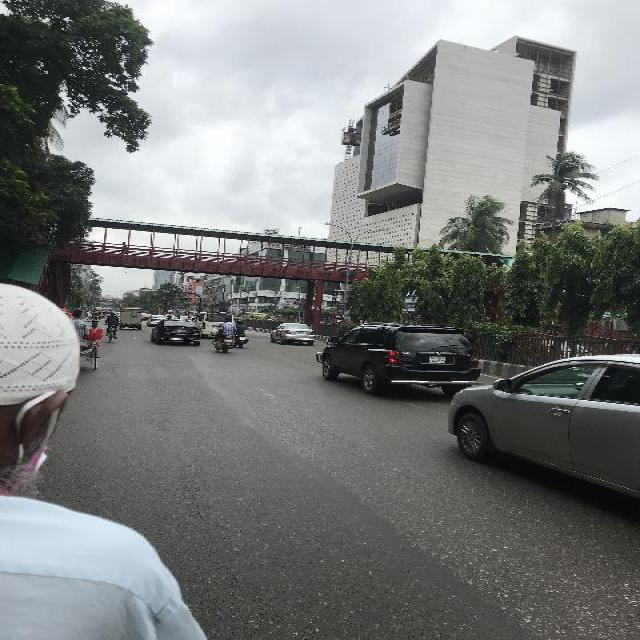bicycle: (102, 312, 119, 342), (90, 312, 98, 330)
bus: (175, 308, 185, 316), (188, 310, 199, 316)
car: (151, 318, 201, 344), (269, 322, 315, 344), (146, 314, 161, 326), (142, 314, 150, 320)
motorbike: (210, 333, 233, 352), (232, 332, 248, 348)
pickup: (118, 306, 142, 330)
rickshaw: (95, 310, 105, 322)
suv: (314, 320, 482, 396)
van: (199, 312, 233, 334)
